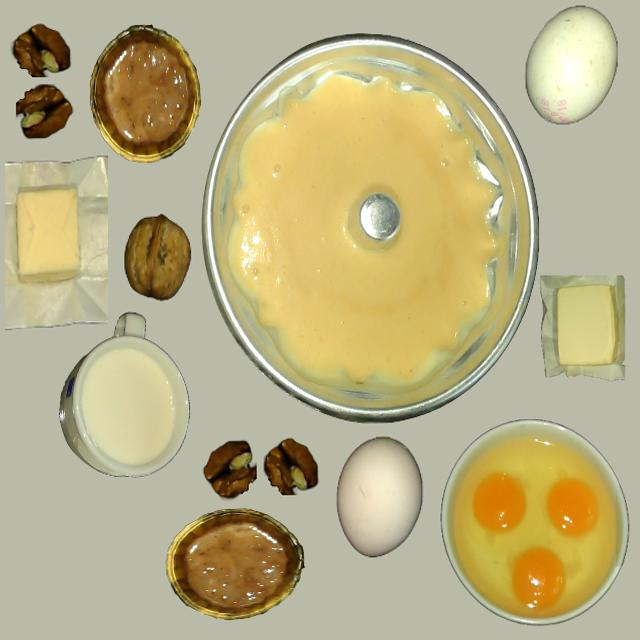Egg: (512, 547, 566, 609), (472, 474, 526, 532), (545, 479, 598, 536)
Milk: (84, 352, 175, 462)
Walnut: (539, 274, 625, 384), (124, 214, 191, 300)
